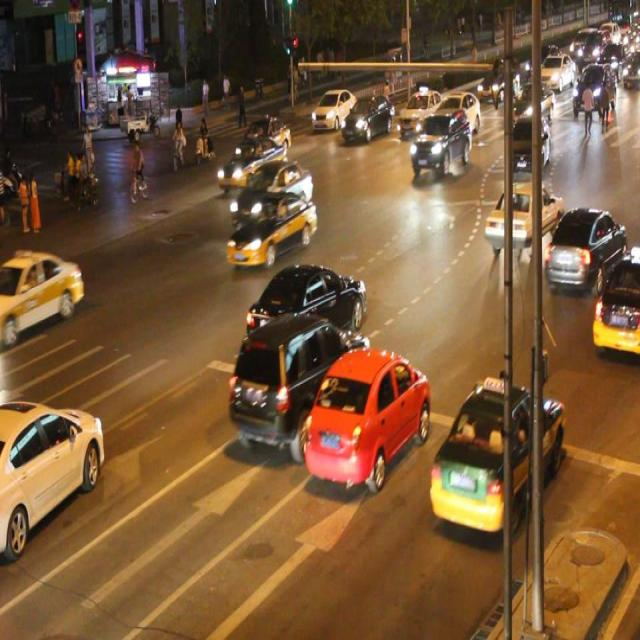car: (430, 380, 560, 531), (230, 316, 367, 444), (304, 346, 428, 484), (0, 400, 106, 551), (246, 263, 365, 345), (1, 249, 84, 339), (225, 192, 318, 267), (544, 207, 624, 288), (483, 180, 561, 250), (231, 160, 313, 224), (590, 254, 640, 353), (411, 108, 468, 171), (216, 140, 283, 190), (236, 118, 292, 164), (505, 115, 549, 172), (429, 90, 481, 138), (341, 95, 391, 140), (311, 86, 358, 130), (396, 90, 444, 133)
